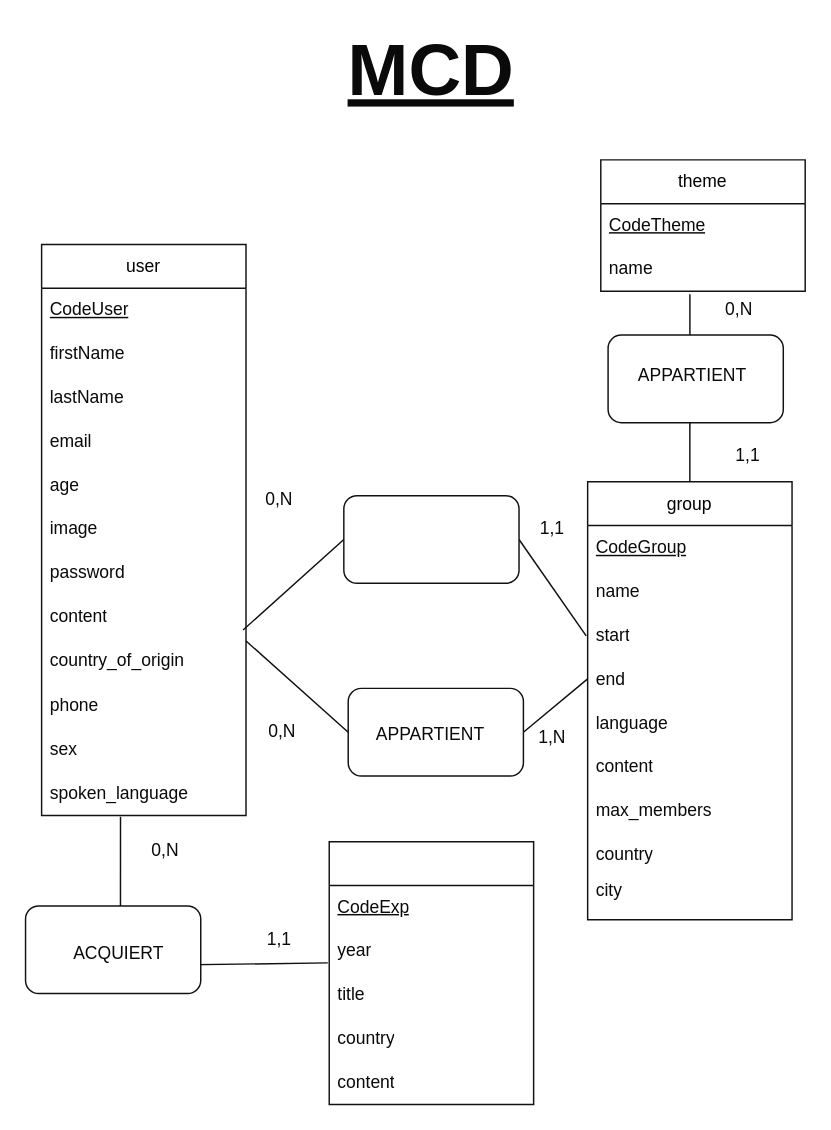
Image size: 831x1130. Some labels were removed from this diagram. Here are the shapes that lost their labels. From the top down, the box of each, then its label:
(342, 494, 519, 583): CREE
(328, 840, 534, 1104): experience
